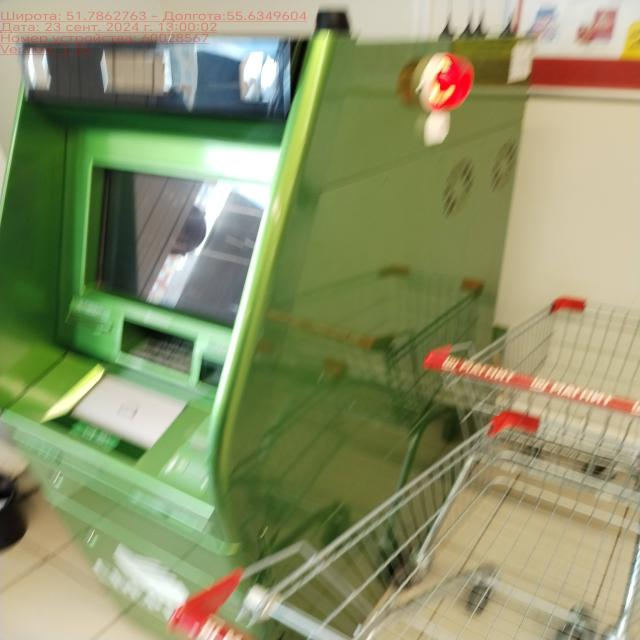bank: (24, 39, 528, 640)
